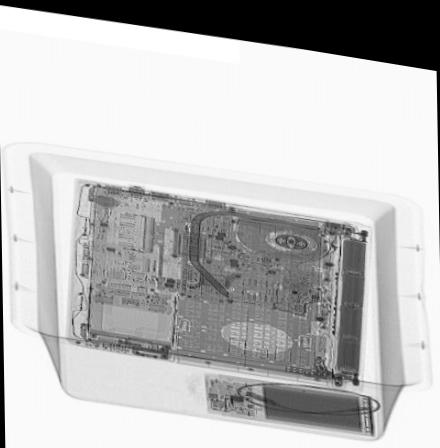Powerbank: (201, 362, 376, 425)
